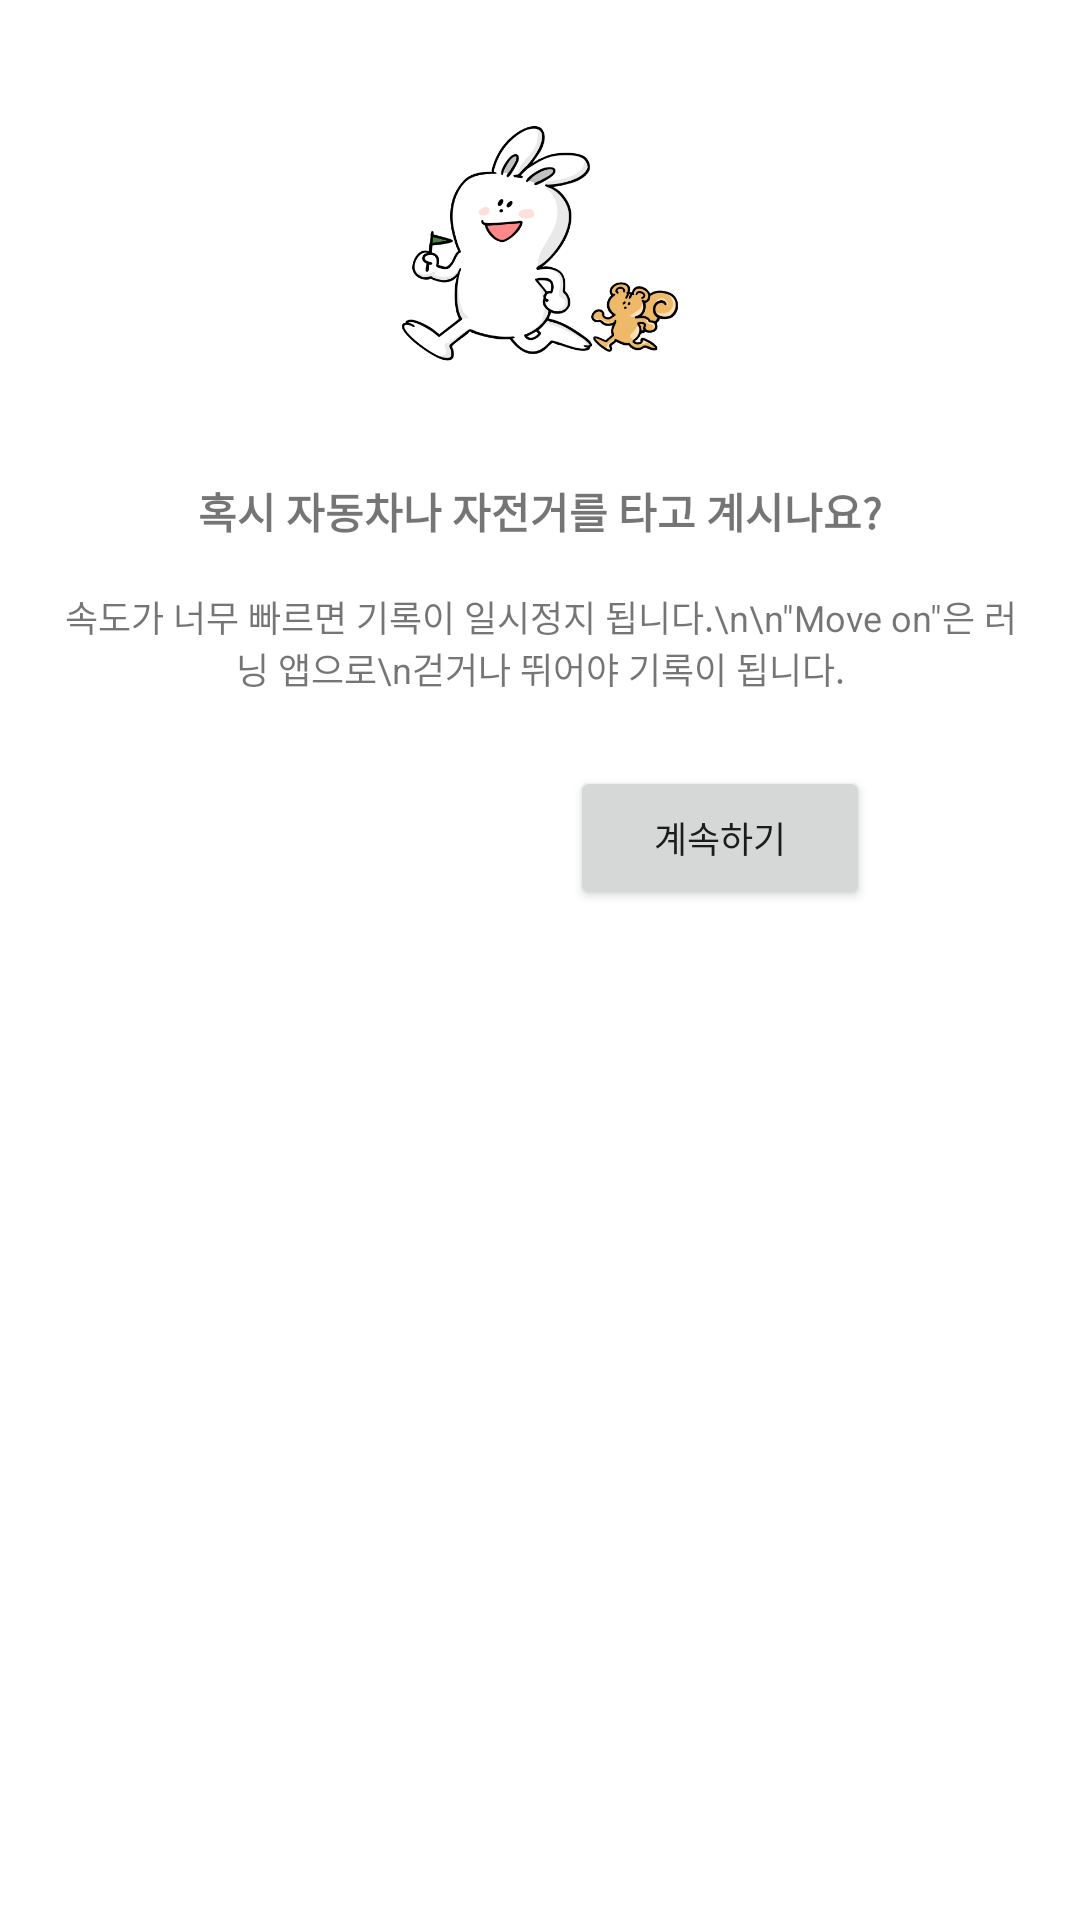

Screen size 1080x1920. Icon name, then its box in pixels as box=[x1, y1, x2, y2]:
character: box=[402, 126, 678, 361]
